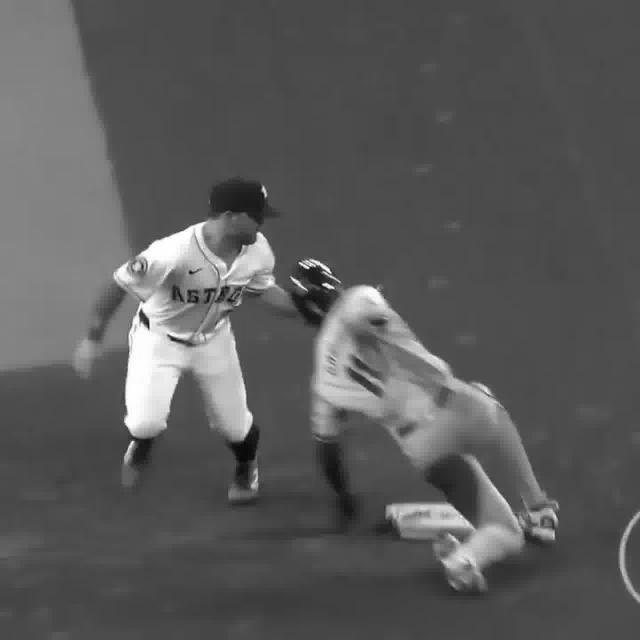base: (387, 498, 474, 540)
shoe: (435, 532, 489, 598), (117, 428, 164, 496), (225, 454, 262, 503), (522, 511, 560, 538)
